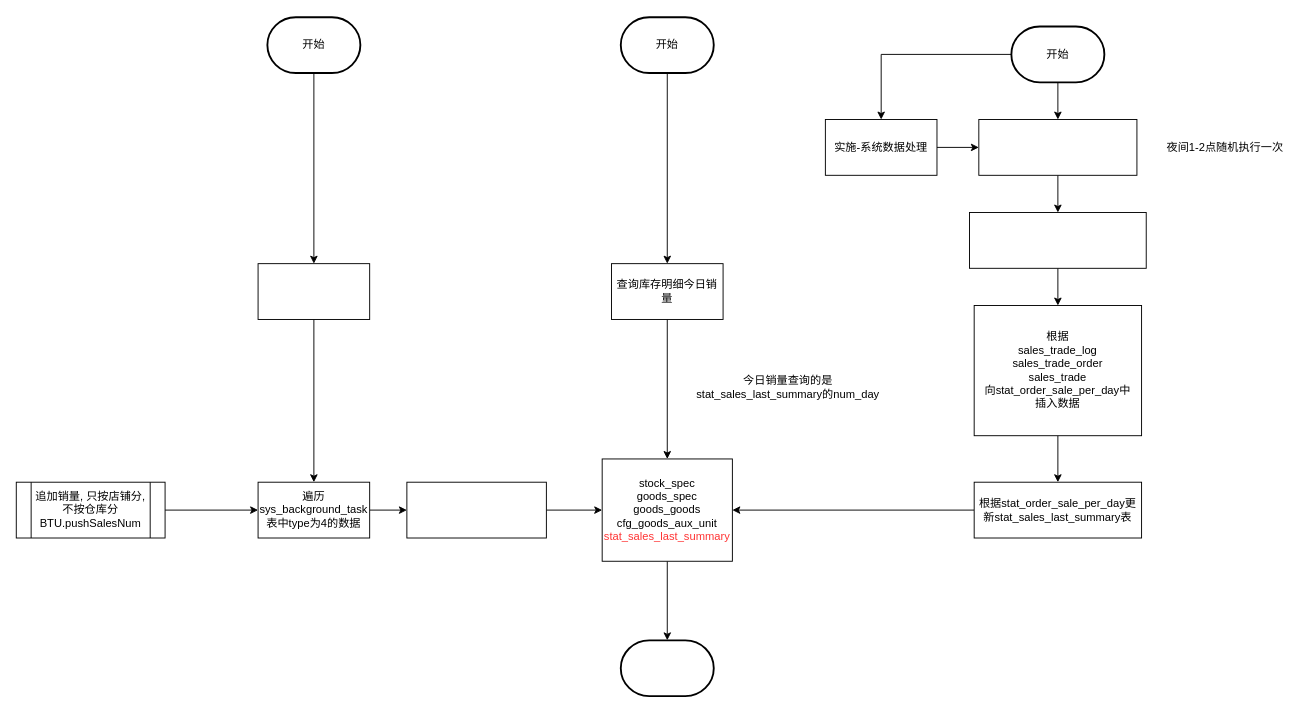
This 1307x712 diagram has some shape labels left out. The shapes that lost their labels are listed below. From the top down, each one's box as (x1, y1, x2, y2) in pixels, then its label:
(978, 119, 1137, 175): 夜间定时任务 BackGroundTaskUtil. summaryStockSalesNum()
(969, 212, 1146, 268): 将stat_sales_last_summary的 num_day等字段置零
(257, 263, 370, 319): 分钟定时任务 BackgroundTaskUtils. trigerStockChange()
(406, 481, 546, 538): 累加 stat_order_sale_per_day 表中的销量
(619, 639, 714, 697): 结束
